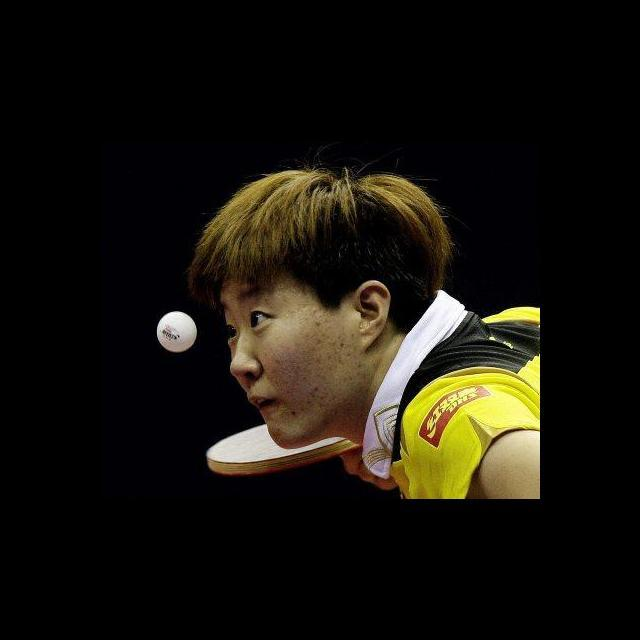ping-pong-ball: (156, 311, 198, 352)
